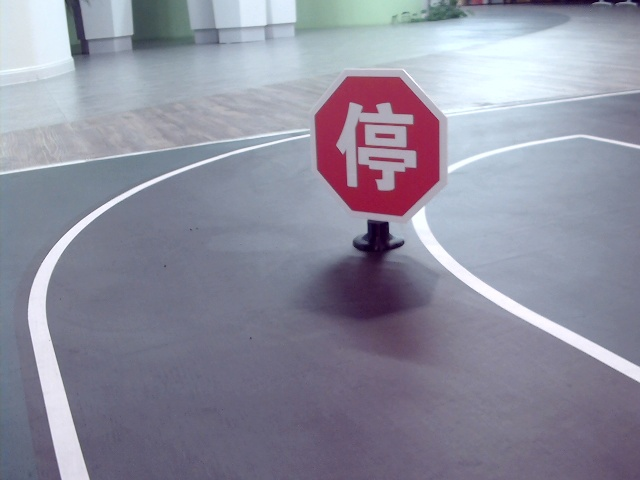stop: (332, 96, 422, 190)
